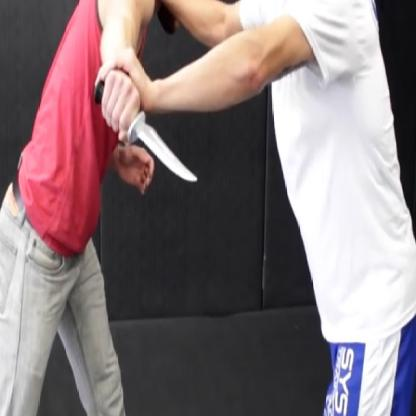knife: (90, 70, 202, 195)
